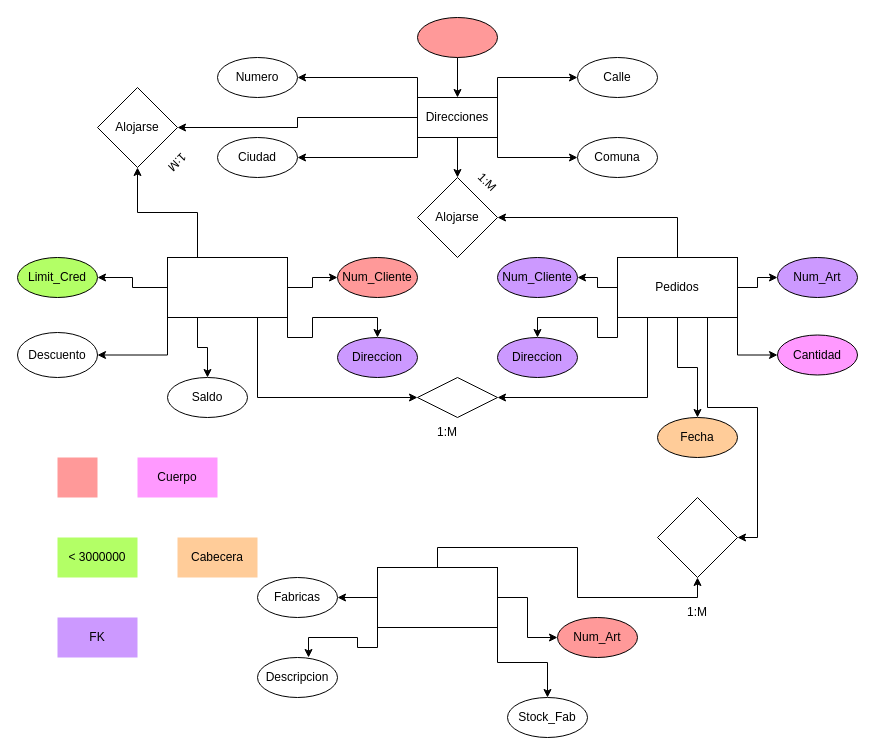
Some shapes in this 875 by 755 pixel diagram are drawn without their labels. The shapes that lost their labels are listed below. From the top down, each one's centre as x and y in pixels, then its label:
(457,37): ID
(227,287): Clientes
(457,397): Pedir
(77,477): PK
(697,537): Solicitado
(437,597): Articulos
